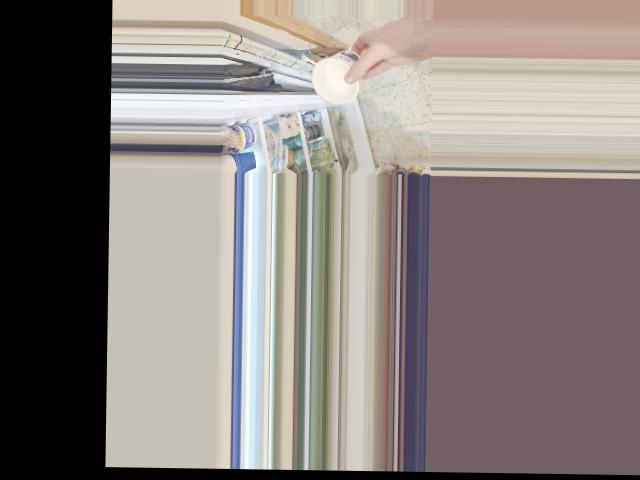cotage: (308, 46, 364, 104)
